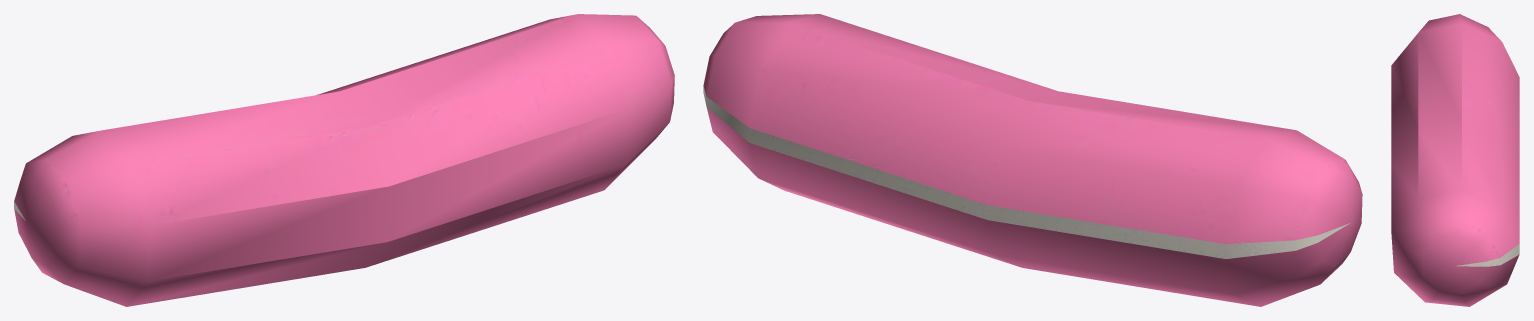
3 renders of one model, left to right at view 1: azimuth 30°, elevation 25°; view 2: azimuth 150°, elevation 25°; view 3: azimuth 270°, elevation 25°, orthographic. The views are drawn at different scales.
Parts seen in each view (by area): view 1: Sprinkle_Glaze_pink; view 2: Sprinkle_Glaze_pink, Cream_Highlight_Stripe; view 3: Sprinkle_Glaze_pink, Cream_Highlight_Stripe.
Boxes of the visible parts, x1,y1,x2,y2 form: Sprinkle_Glaze_pink: [14, 14, 674, 306]; Sprinkle_Glaze_pink: [703, 14, 1362, 306]; Cream_Highlight_Stripe: [703, 86, 1349, 258]; Sprinkle_Glaze_pink: [1391, 14, 1519, 306]; Cream_Highlight_Stripe: [1455, 244, 1519, 266].
Bounding box in the file's own units: 0.88 × 0.2414 × 0.2149.
Materials: 2 (2 with a texture image).
